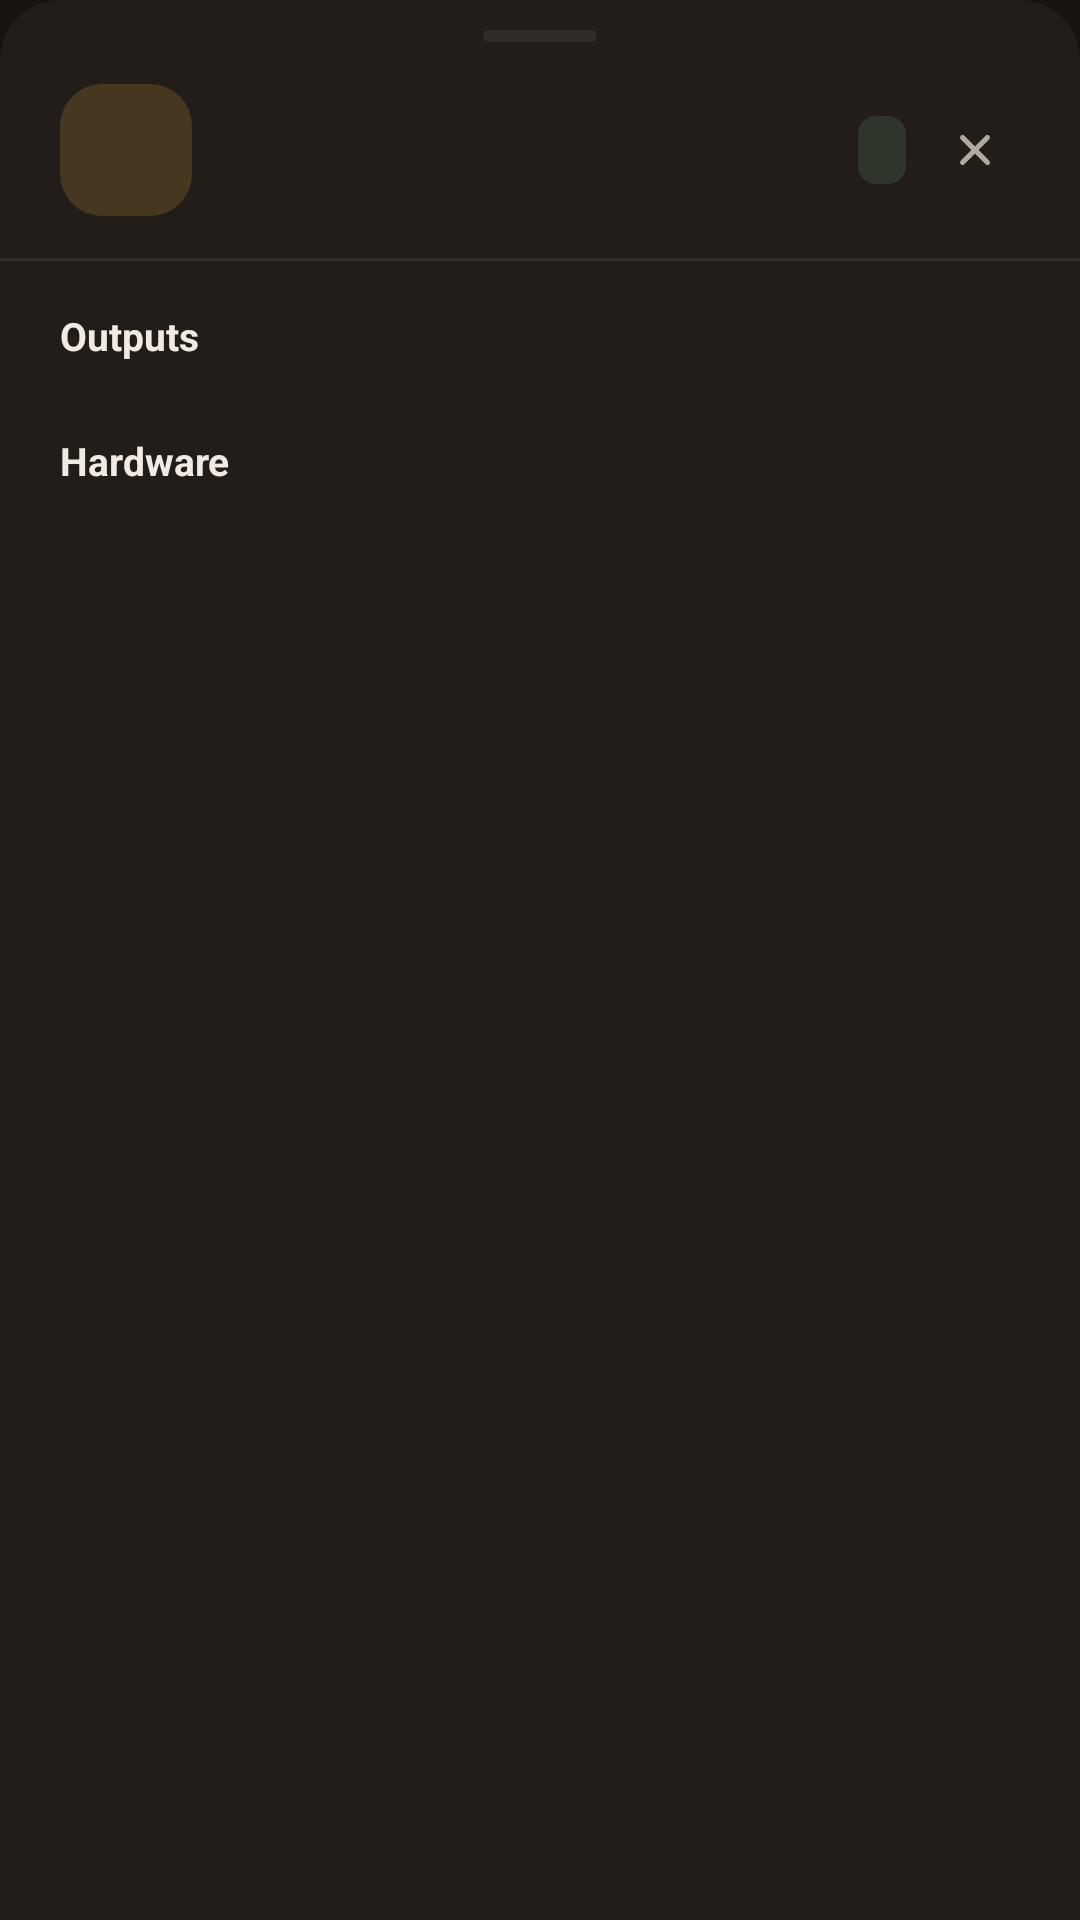

Where icons sit on this 1080x1920 app screen, as rect(x1, y1, x2, y2):
Close details: rect(960, 135, 990, 165)
